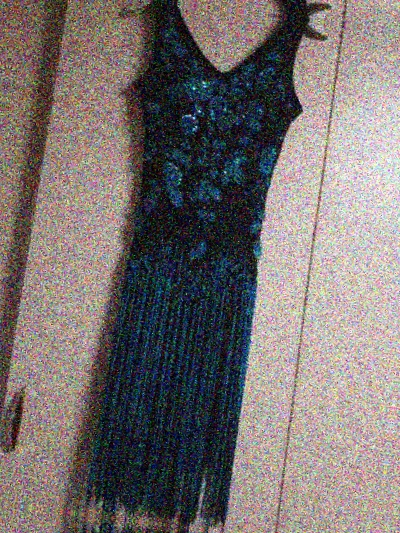Dress: (33, 0, 354, 533), (0, 514, 288, 533), (99, 0, 400, 18)
